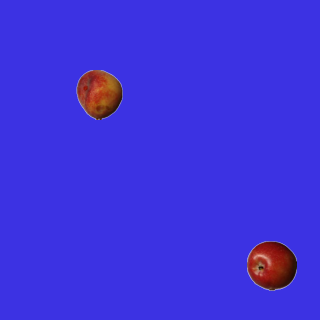Apple Braeburn: (246, 240, 296, 290)
Peach: (74, 69, 124, 119)
